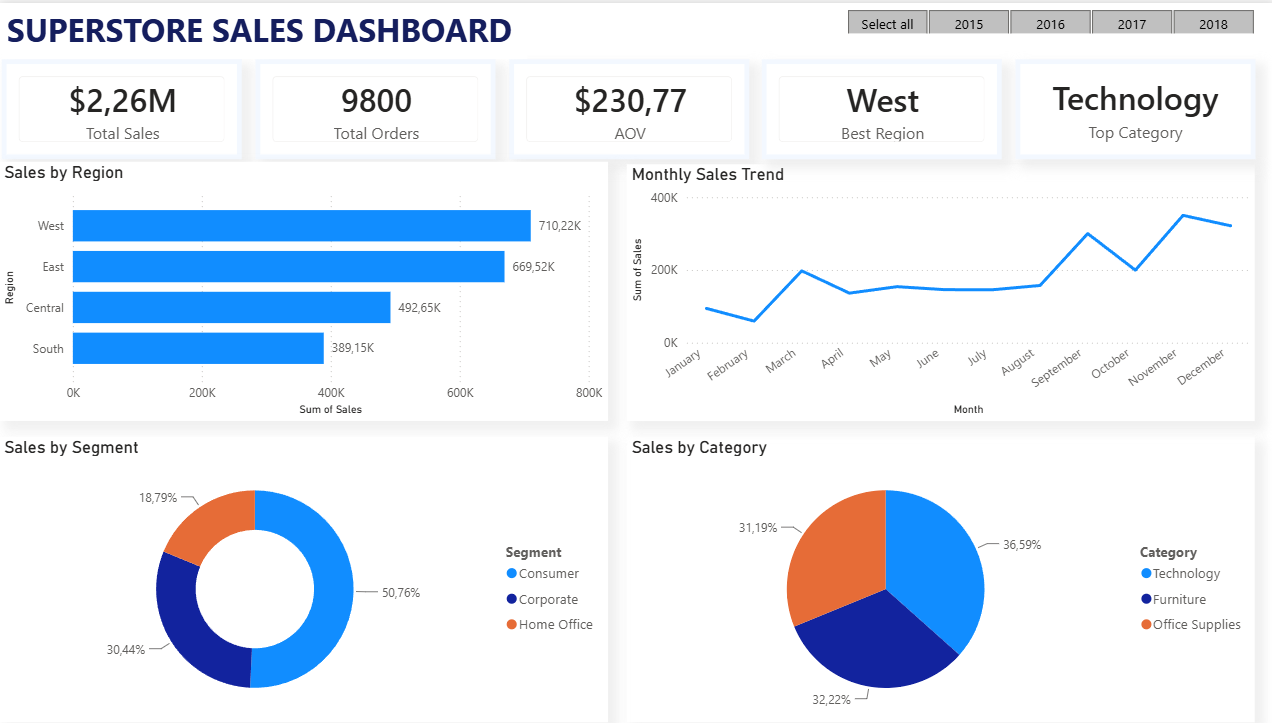

The dashboard page shown, as its layout file describes it:
{"tool":"powerbi","page":{"name":"Page 1","canvas":[1280,720],"ordinal":0},"visuals":[{"type":"cardVisual","fields":{"Data":["Data.Total Sales"]},"box":[4.3,55.7,240,100],"z":0},{"type":"cardVisual","fields":{"Data":["Data.Total Orders"]},"box":[257.5,55.7,240,100],"z":1000},{"type":"cardVisual","fields":{"Data":["Data.AOV"]},"box":[510.7,55.7,240,100],"z":2000},{"type":"pieChart","title":"Sales by Category","fields":{"Category":["Data.Category"],"Y":["Sum(Data.Sales)"]},"box":[628.2,434.4,628.2,285.9],"z":3000},{"type":"clusteredBarChart","title":"Sales by Region","fields":{"Category":["Data.Region"],"Y":["Sum(Data.Sales)"]},"box":[1.2,158.3,608.6,258.9],"z":4000},{"type":"lineChart","title":"Monthly Sales Trend","fields":{"Y":["Sum(Data.Sales)"],"Category":["Data.Order Date.Variation.Date Hierarchy.Month"]},"box":[628.2,160.7,628.2,256.4],"z":5000},{"type":"donutChart","title":"Sales by Segment","fields":{"Category":["Data.Segment"],"Y":["Sum(Data.Sales)"]},"box":[1.2,434.4,608.6,285.9],"z":6000},{"type":"slicer","fields":{"Values":["Data.Order Date.Variation.Date Hierarchy.Year"]},"box":[824.3,0,455.7,30],"z":7000},{"type":"cardVisual","fields":{"Data":["Data.Top Region"]},"box":[763.9,55.7,240,100],"z":8000},{"type":"cardVisual","fields":{"Data":["Data.Top Category"]},"box":[1017.1,55.7,240,100],"z":9000},{"type":"textbox","box":[4.3,0,525.7,55.7],"z":10000}]}

Visuals, with their boxes in screenshot pixels (x1, y1, x2, y2), scaled from the page's 1280x720 canvas onto the 1272x723 screenshot:
cardVisual - Data.Total Sales: {"x1": 4, "y1": 56, "x2": 243, "y2": 156}
cardVisual - Data.Total Orders: {"x1": 256, "y1": 56, "x2": 494, "y2": 156}
cardVisual - Data.AOV: {"x1": 508, "y1": 56, "x2": 746, "y2": 156}
"Sales by Category" pieChart: {"x1": 624, "y1": 436, "x2": 1249, "y2": 722}
"Sales by Region" clusteredBarChart: {"x1": 1, "y1": 159, "x2": 606, "y2": 419}
"Monthly Sales Trend" lineChart: {"x1": 624, "y1": 161, "x2": 1249, "y2": 419}
"Sales by Segment" donutChart: {"x1": 1, "y1": 436, "x2": 606, "y2": 722}
slicer - Data.Order Date.Variation.Date Hierarchy.Year: {"x1": 819, "y1": 0, "x2": 1271, "y2": 30}
cardVisual - Data.Top Region: {"x1": 759, "y1": 56, "x2": 998, "y2": 156}
cardVisual - Data.Top Category: {"x1": 1011, "y1": 56, "x2": 1249, "y2": 156}
textbox: {"x1": 4, "y1": 0, "x2": 527, "y2": 56}
